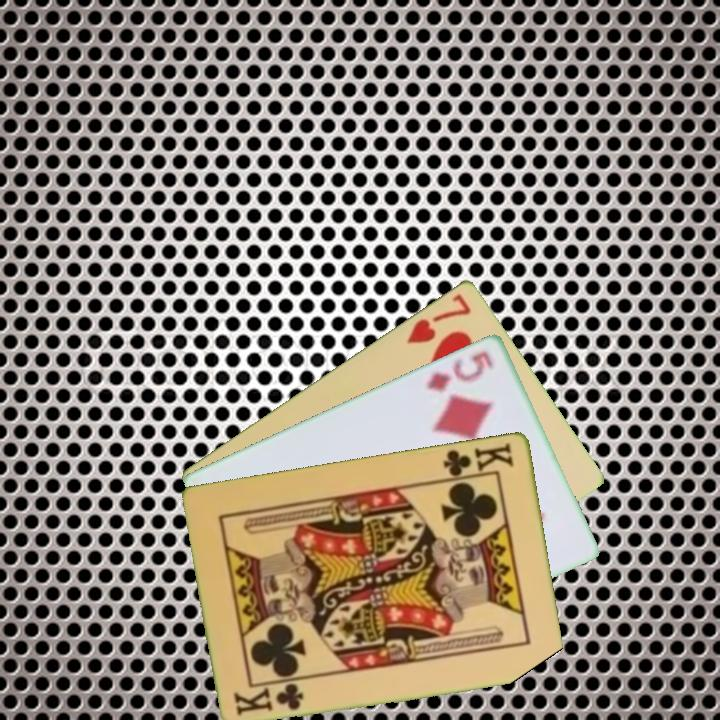5d: (424, 347, 497, 395)
7h: (403, 289, 474, 347)
Kc: (439, 439, 517, 482), (230, 680, 307, 718)
